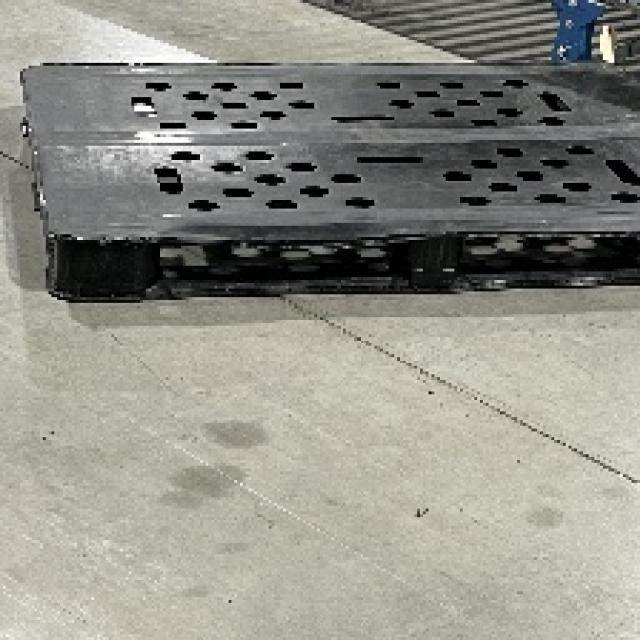igps: (13, 52, 640, 311)
